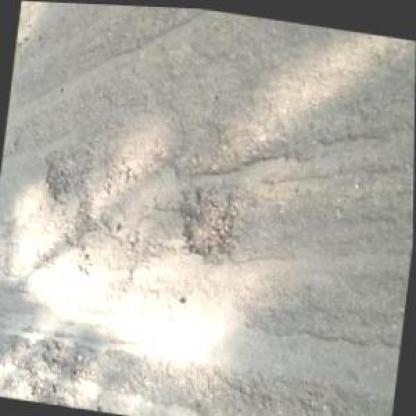pothole: (172, 178, 244, 263), (41, 141, 80, 204)
